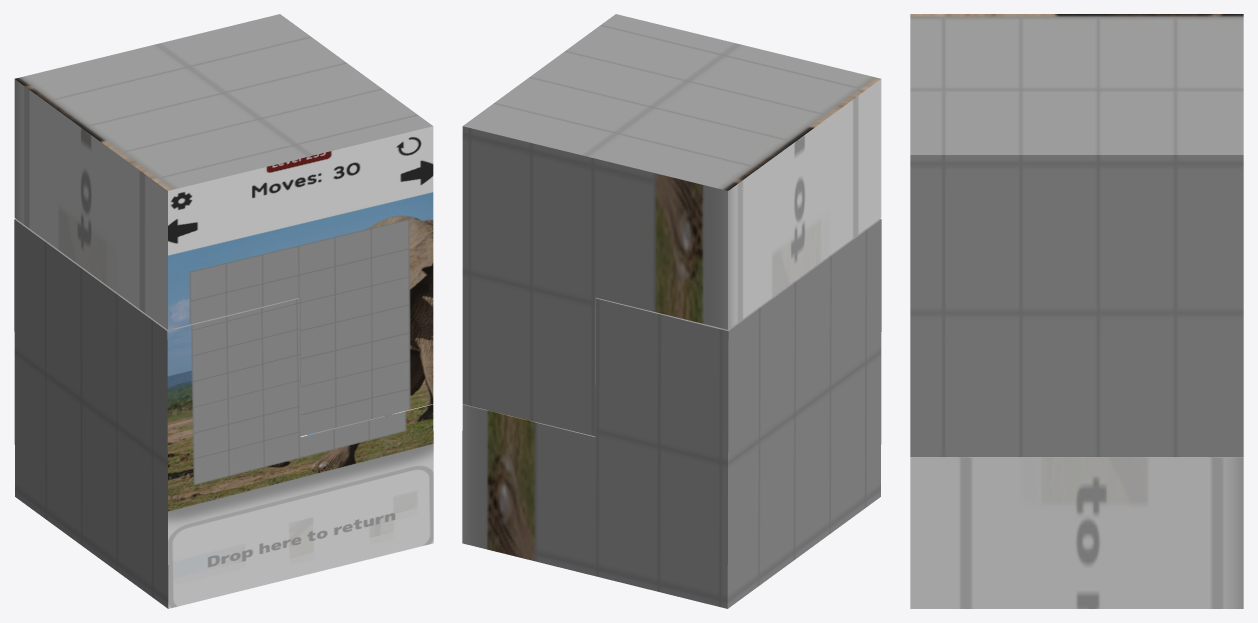
File: puzzle1.fbx
3 renders of one model, left to right at view 1: azimuth 30°, elevation 25°; view 2: azimuth 150°, elevation 25°; view 3: azimuth 270°, elevation 25°, orthographic. The views are drawn at different scales.
Parts seen in each view (by area): view 1: Cube, Cube.001; view 2: Cube, Cube.001; view 3: Cube, Cube.001.
Boxes of the visible parts, <box> form: Cube: <box>14,14,433,436</box>; Cube.001: <box>14,218,433,608</box>; Cube: <box>462,14,881,436</box>; Cube.001: <box>462,218,881,608</box>; Cube: <box>910,14,1243,457</box>; Cube.001: <box>910,457,1243,608</box>.
Size of the model in its own units: 201 by 301 by 200.
